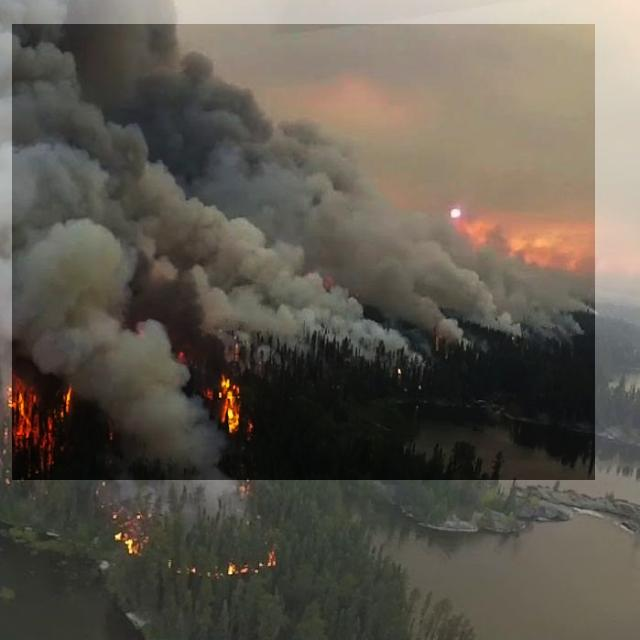Fire: (9, 368, 65, 453), (204, 378, 257, 442)
Smoke: (12, 24, 595, 480)
